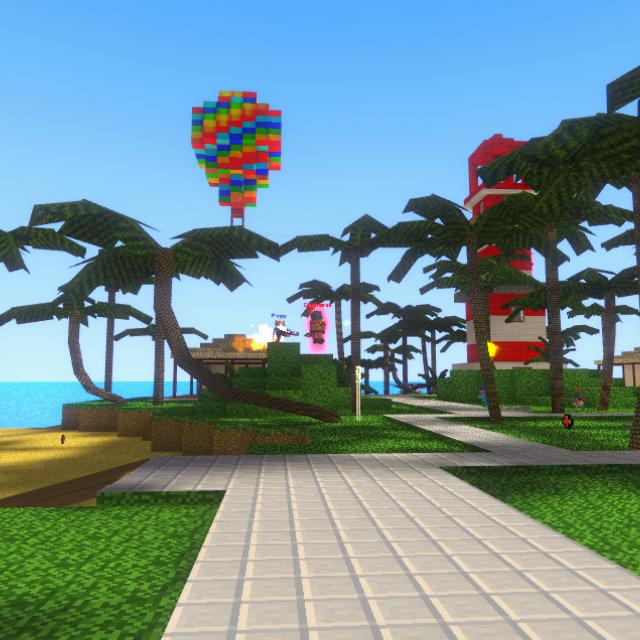Enemy: (307, 310, 326, 345)
